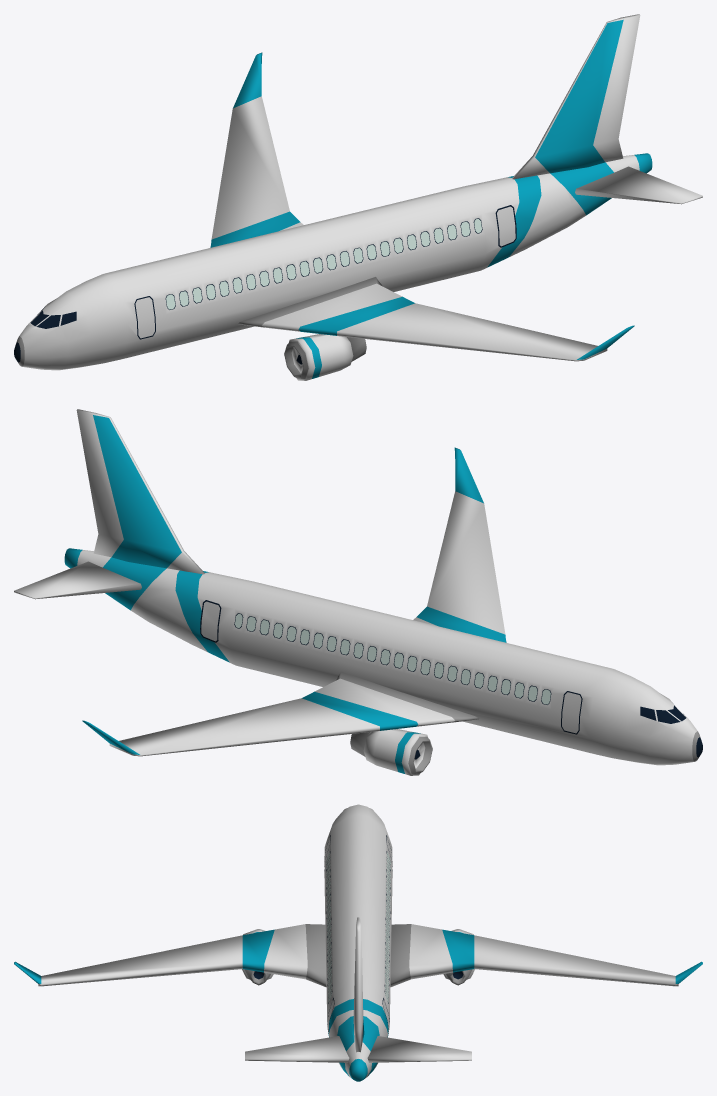
Rendered from mdl_plane.gltf.
3 views of the same model, one above another, from view 1: azimuth 30°, elevation 25°; view 2: azimuth 150°, elevation 25°; view 3: azimuth 270°, elevation 25° (orthographic). The views are drawn at different scales.
Parts seen in each view (by area): view 1: Cube; view 2: Cube; view 3: Cube.
Boxes of the visible parts, bbox=[...] form: Cube: bbox=[14, 14, 702, 380]; Cube: bbox=[14, 409, 702, 775]; Cube: bbox=[14, 804, 702, 1081].
Bounding box in the file's own units: 2.01 × 0.6958 × 2.05.
